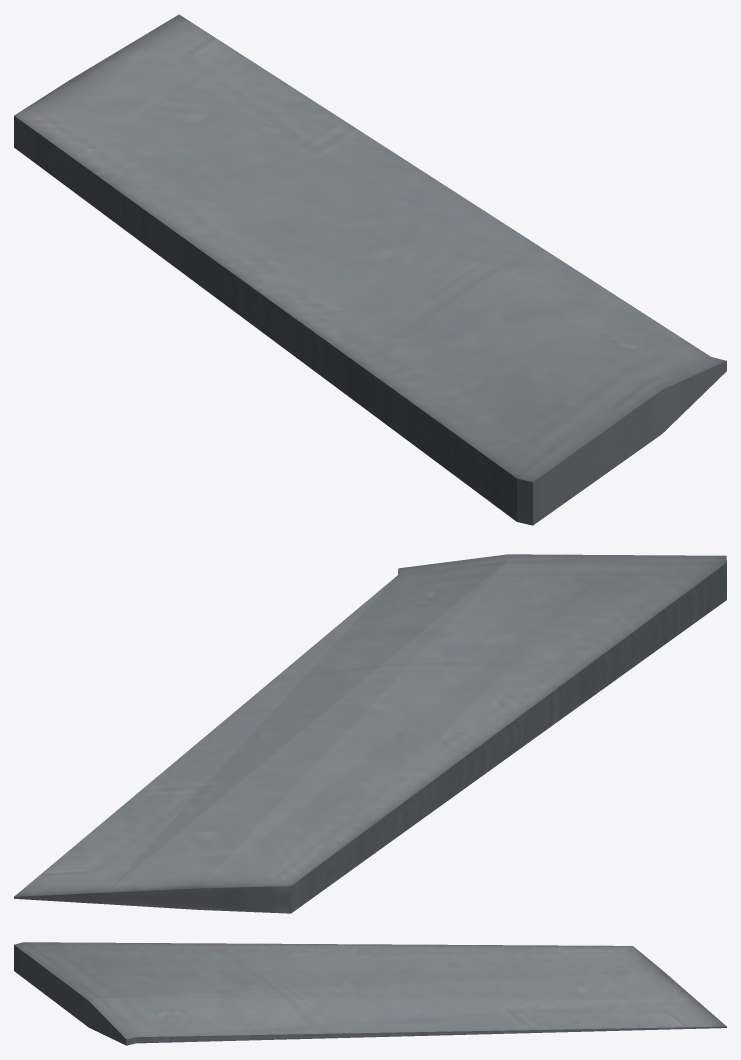
File: gouvernaille.fbx
3 views of the same model, one above another, from view 1: azimuth 30°, elevation 25°; view 2: azimuth 150°, elevation 25°; view 3: azimuth 270°, elevation 25° (orthographic). The views are drawn at different scales.
Parts seen in each view (by area): view 1: ShapeIndexedFaceSet; view 2: ShapeIndexedFaceSet; view 3: ShapeIndexedFaceSet.
Part boxes in pixels (box(x1,y1,x2,y2)): ShapeIndexedFaceSet: box(14, 14, 726, 525); ShapeIndexedFaceSet: box(14, 554, 726, 913); ShapeIndexedFaceSet: box(14, 942, 726, 1045).
Bounding box in the file's own units: 0.7444 × 0.1063 × 2.57.
